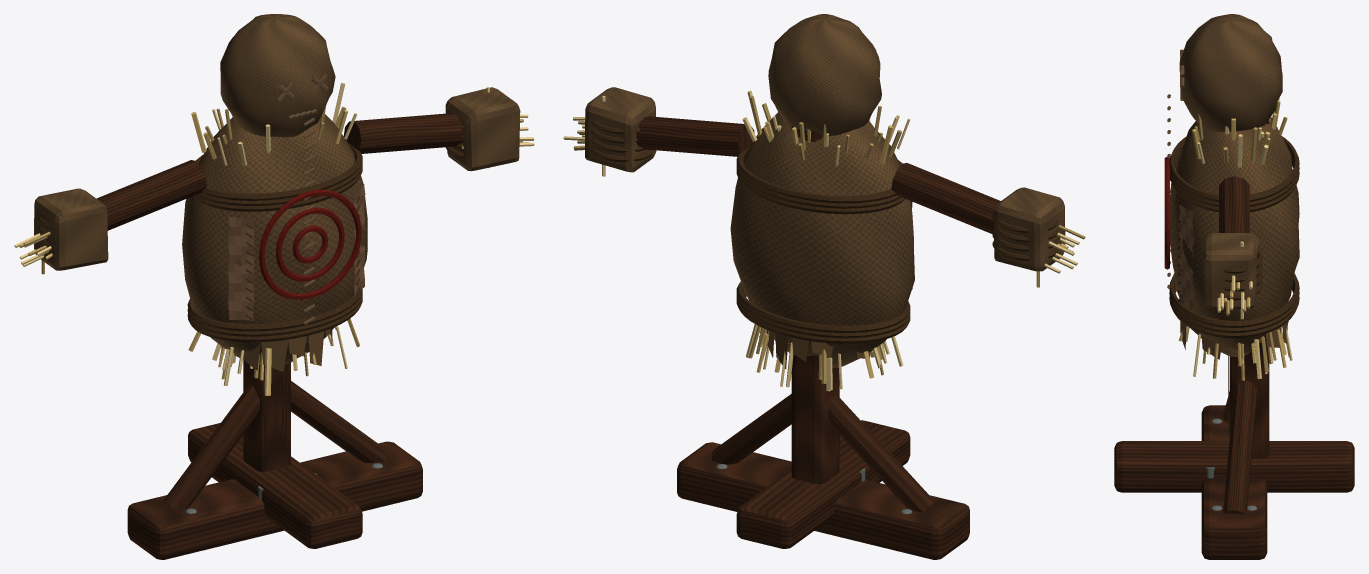
Rendered from PracticeScarecrow.fbx.
The picture shows the model from 3 angles, left to right: view 1: azimuth 30°, elevation 25°; view 2: azimuth 150°, elevation 25°; view 3: azimuth 270°, elevation 25°; orthographic projection. The views are drawn at different scales.
Parts seen in each view (by area): view 1: PracticeScarecrow_Mesh, AttackArmL_Mesh, AttackArmR_Mesh; view 2: PracticeScarecrow_Mesh, AttackArmL_Mesh, AttackArmR_Mesh; view 3: PracticeScarecrow_Mesh, AttackArmR_Mesh.
Boxes of the visible parts, x1,y1,x2,y2 form: PracticeScarecrow_Mesh: (127, 14, 422, 559); AttackArmL_Mesh: (14, 160, 206, 274); AttackArmR_Mesh: (343, 87, 534, 171); PracticeScarecrow_Mesh: (677, 14, 969, 559); AttackArmL_Mesh: (891, 163, 1085, 287); AttackArmR_Mesh: (563, 87, 754, 176); PracticeScarecrow_Mesh: (1114, 14, 1354, 559); AttackArmR_Mesh: (1203, 176, 1262, 319).
Size of the model in its own units: 260 by 243 by 110.
11 materials, 5 textured.
